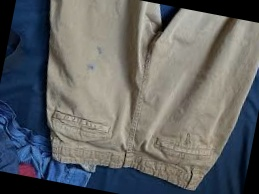ink: (95, 44, 104, 56), (85, 64, 95, 72)
